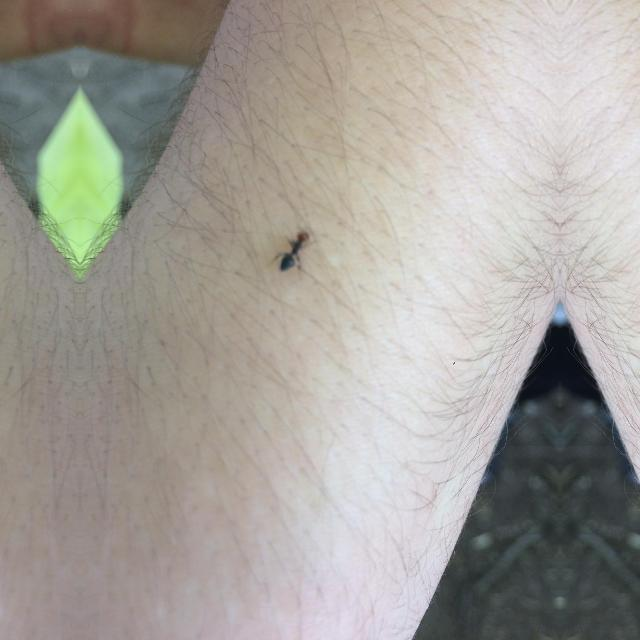Crematogaster: (276, 228, 310, 276)
